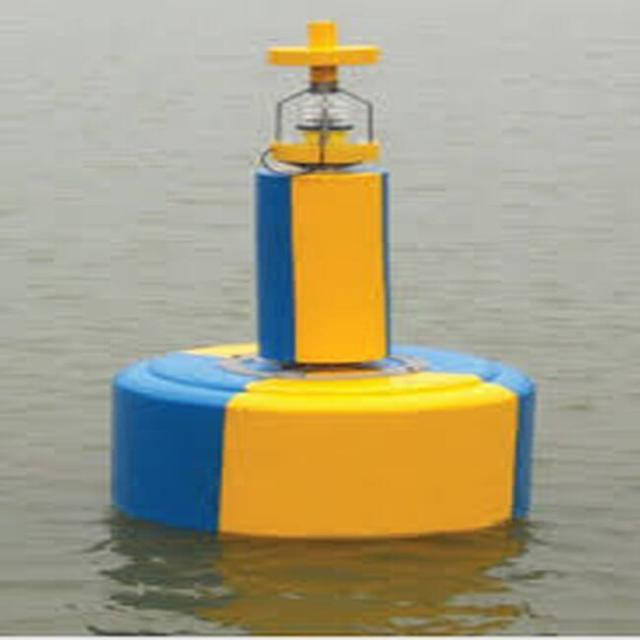marque: (97, 6, 555, 556)
